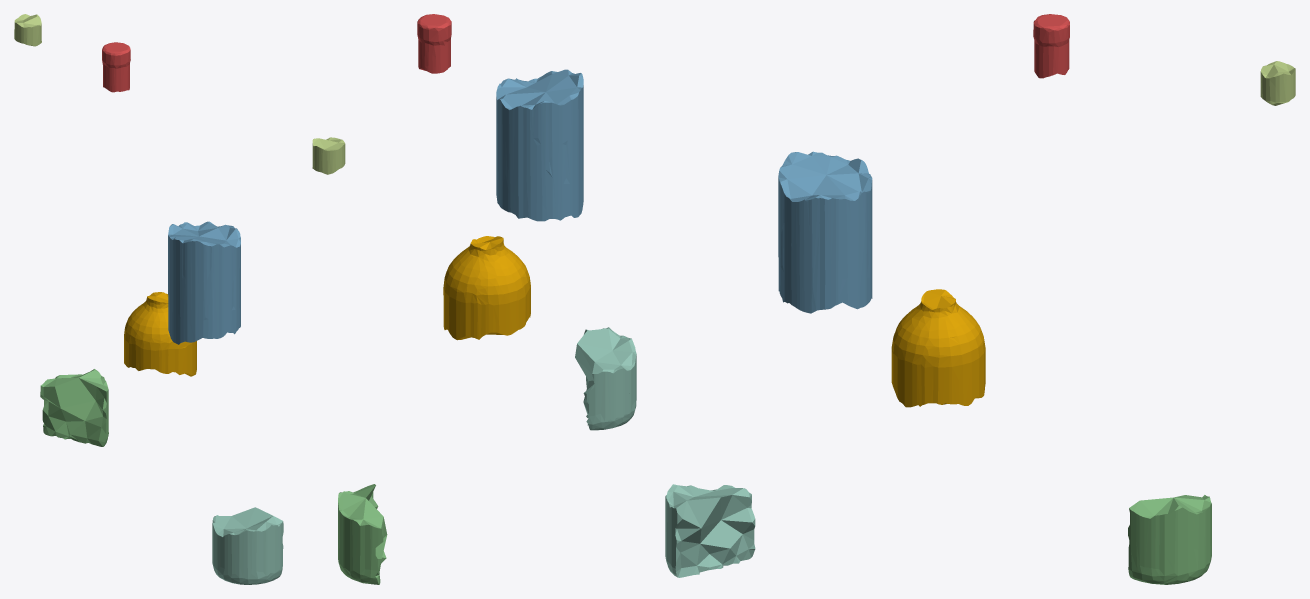
Rendered from fractured_58_6pcs_transformed.glb.
The picture shows the model from 3 angles, left to right: view 1: azimuth 30°, elevation 25°; view 2: azimuth 150°, elevation 25°; view 3: azimuth 270°, elevation 25°; orthographic projection. The views are drawn at different scales.
Parts seen in each view (by area): view 1: piece_2.obj, piece_4.obj, piece_3.obj, piece_0.obj, piece_1.obj, piece_5.obj; view 2: piece_2.obj, piece_0.obj, piece_4.obj, piece_3.obj, piece_1.obj, piece_5.obj; view 3: piece_2.obj, piece_0.obj, piece_4.obj, piece_3.obj, piece_1.obj, piece_5.obj.
Part boxes in pixels (left/top/right/bottom): piece_2.obj: left=168, top=221, right=240, bottom=344; piece_4.obj: left=212, top=507, right=283, bottom=584; piece_3.obj: left=40, top=369, right=108, bottom=446; piece_0.obj: left=124, top=292, right=196, bottom=376; piece_1.obj: left=102, top=42, right=130, bottom=92; piece_5.obj: left=14, top=14, right=41, bottom=46; piece_2.obj: left=496, top=69, right=583, bottom=221; piece_0.obj: left=443, top=236, right=530, bottom=340; piece_4.obj: left=575, top=327, right=636, bottom=430; piece_3.obj: left=338, top=484, right=387, bottom=584; piece_1.obj: left=417, top=14, right=451, bottom=73; piece_5.obj: left=312, top=137, right=345, bottom=174; piece_2.obj: left=778, top=151, right=872, bottom=313; piece_0.obj: left=891, top=289, right=985, bottom=407; piece_4.obj: left=665, top=484, right=755, bottom=577; piece_3.obj: left=1128, top=495, right=1211, bottom=584; piece_1.obj: left=1033, top=14, right=1069, bottom=78; piece_5.obj: left=1260, top=61, right=1295, bottom=105.
Bounding box in the file's own units: 0.2492 × 1.6 × 1.67.
